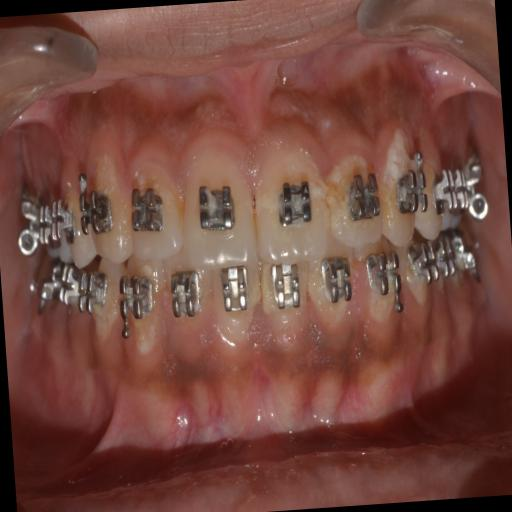correct_brace: (272, 172, 319, 230), (126, 180, 168, 244), (340, 166, 384, 226), (191, 180, 239, 234)
incorrect_brace: (326, 146, 392, 253), (124, 167, 186, 269)
